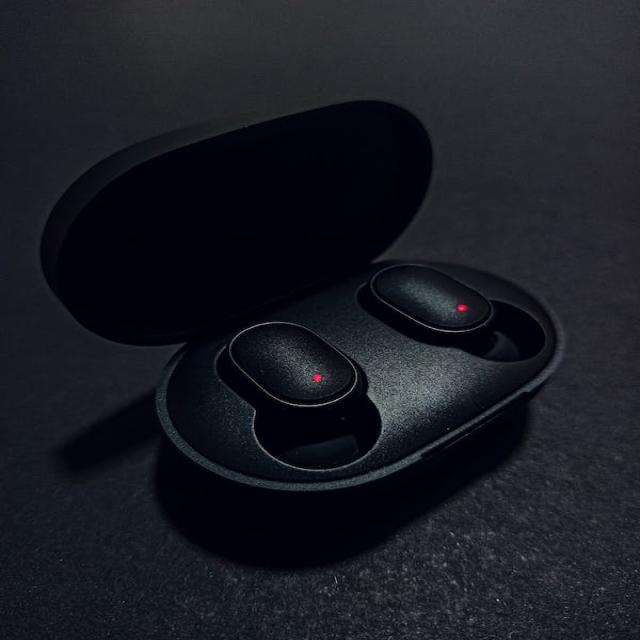airpods: (35, 88, 572, 495)
